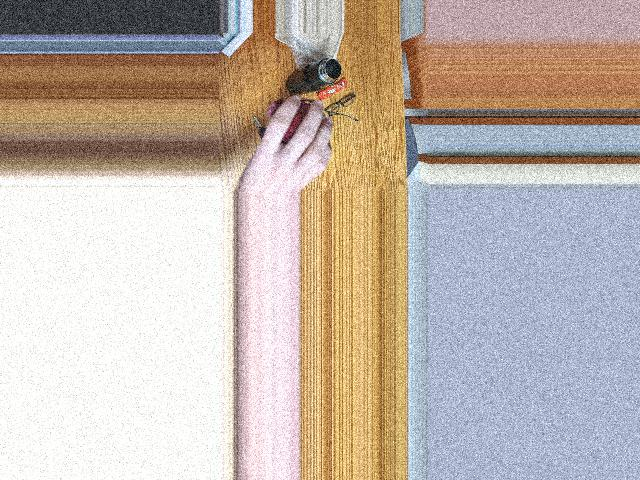onion: (269, 110, 324, 155)
